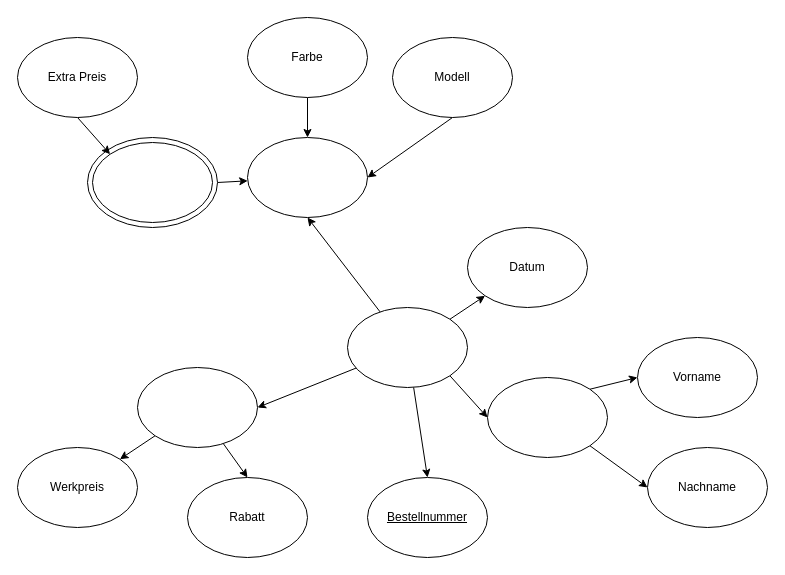
The diagram is 785 pixels wide and 575 high, and some of its shapes have lost their labels. The centre of each missing label's shape, as x and y in pixels:
"Aufträge" goes at pixel 407 347.
"Extras" goes at pixel 152 182.
"Fahrzeug" goes at pixel 307 177.
"ges Preis" goes at pixel 197 407.
"Kunde" goes at pixel 547 417.
